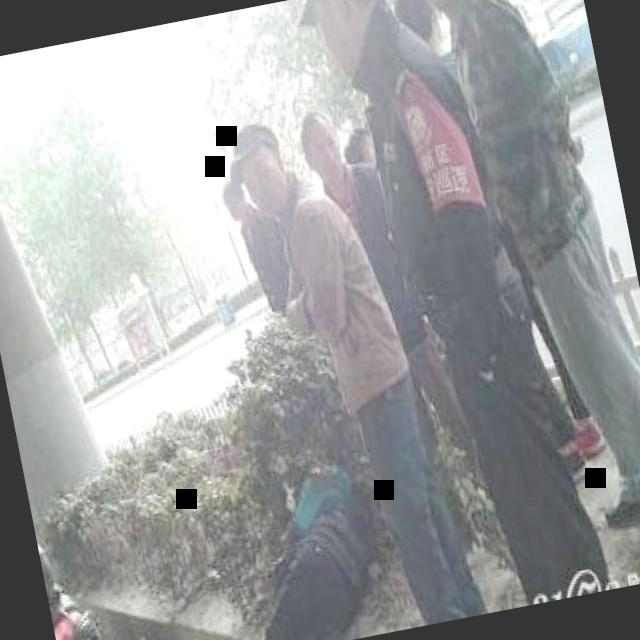Fall-Detected: (179, 417, 402, 640)
